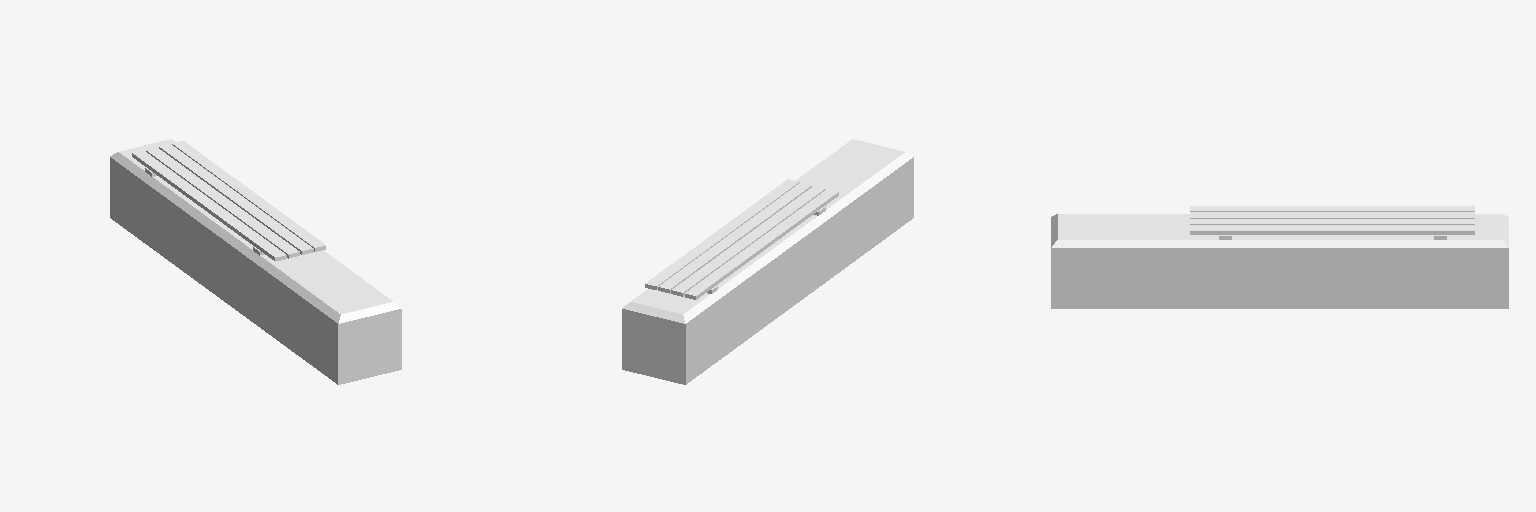
The model's file is lawka_modernistyczna.obj.
3 views of the same model, side by side, from view 1: azimuth 30°, elevation 25°; view 2: azimuth 150°, elevation 25°; view 3: azimuth 270°, elevation 25° (orthographic).
Parts seen in each view (by area): view 1: lawka_modernistyczna; view 2: lawka_modernistyczna; view 3: lawka_modernistyczna.
Part boxes in pixels (x1,y1,x2,y2): lawka_modernistyczna: (110, 139, 401, 384); lawka_modernistyczna: (622, 139, 913, 384); lawka_modernistyczna: (1051, 206, 1508, 308).
Bounding box in the file's own units: 63.76 × 71.75 × 395.